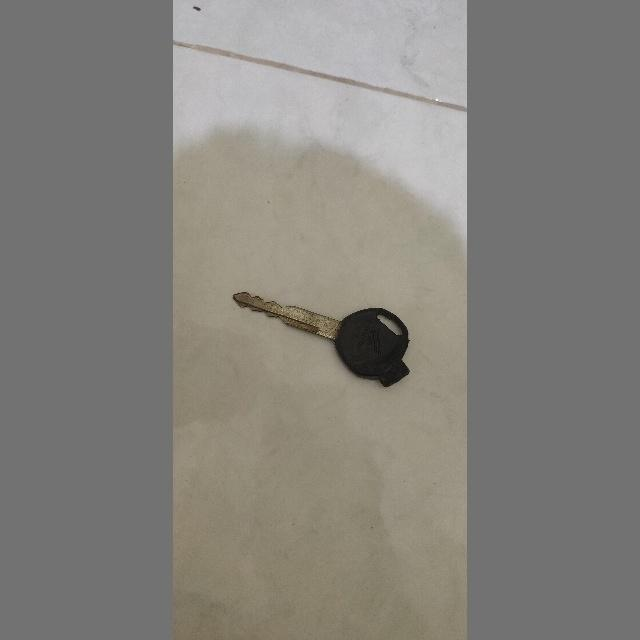Keys: (225, 274, 421, 400)
